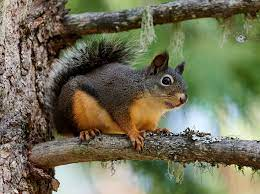squirrel: (43, 35, 189, 150)
